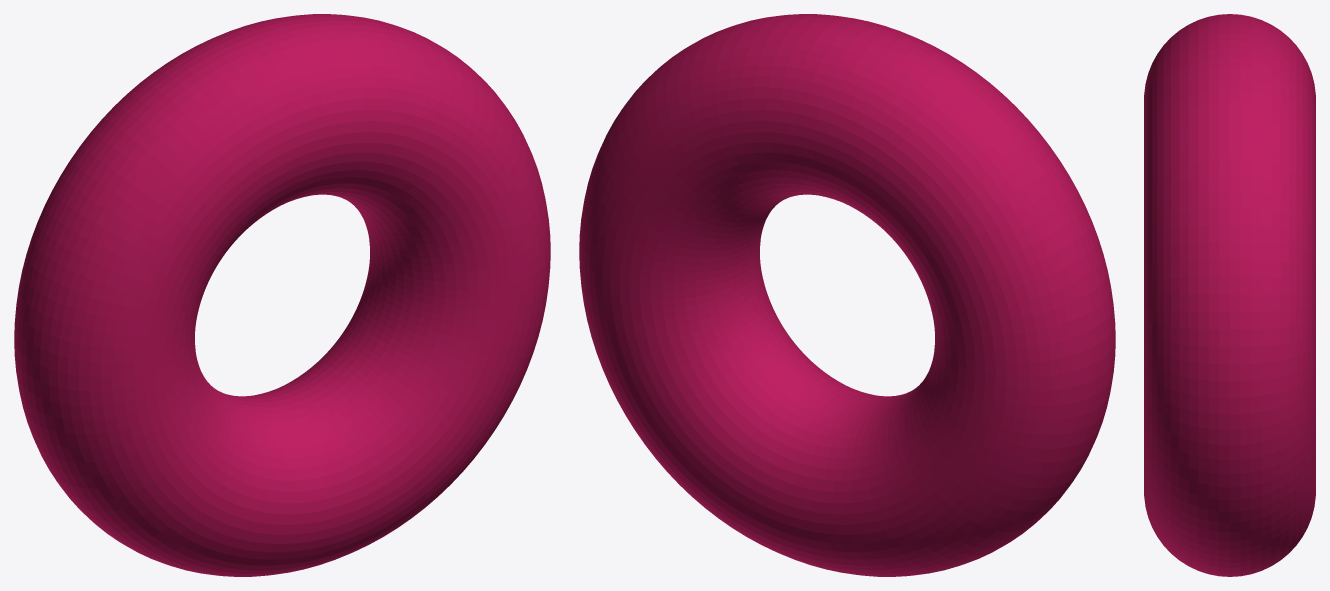
The picture shows the model from 3 angles, left to right: view 1: azimuth 30°, elevation 25°; view 2: azimuth 150°, elevation 25°; view 3: azimuth 270°, elevation 25°; orthographic projection. The views are drawn at different scales.
Parts seen in each view (by area): view 1: world; view 2: world; view 3: world.
Part boxes in pixels (box(x1,y1,x2,y2)): world: box(14, 14, 550, 576); world: box(579, 14, 1115, 576); world: box(1144, 14, 1315, 576).
Size of the model in its own units: 24 by 24 by 7.32.
